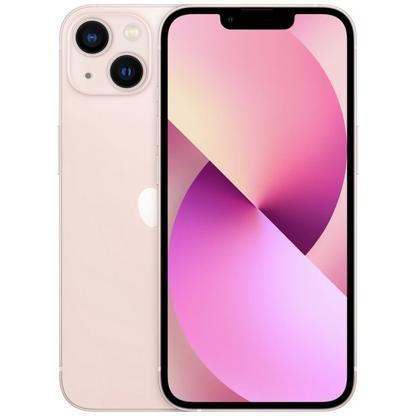not trash: (62, 4, 358, 409), (157, 3, 352, 404)
